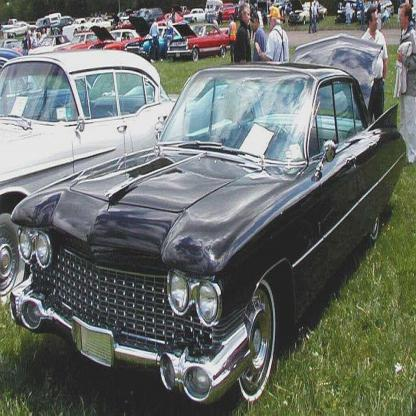Car: (0, 0, 327, 313)
